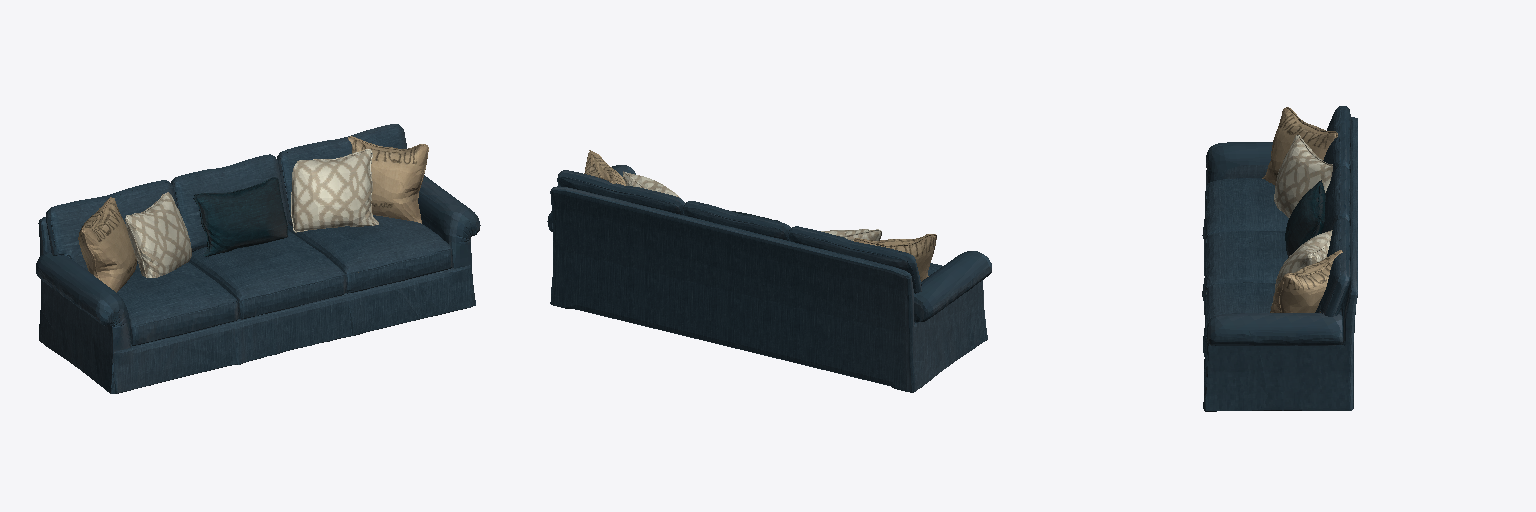
The picture shows the model from 3 angles: view 1: azimuth 30°, elevation 25°; view 2: azimuth 150°, elevation 25°; view 3: azimuth 270°, elevation 25°; orthographic projection.
Parts seen in each view (by area): view 1: solid_002, solid_001, solid_004, solid_003; view 2: solid_002, solid_004, solid_001; view 3: solid_002, solid_004, solid_001, solid_003.
Part boxes in pixels (x1,y1,x2,y2): solid_002: (36,124,480,393); solid_001: (125,149,378,277); solid_004: (78,136,428,292); solid_003: (193,177,287,256); solid_002: (547,165,991,392); solid_004: (584,150,936,281); solid_001: (623,171,881,240); solid_002: (1202,106,1357,411); solid_004: (1262,107,1342,312); solid_001: (1272,135,1332,303); solid_003: (1285,180,1325,257).
Bounding box in the file's own units: 2 × 0.6697 × 0.708.
Materials: 1 (1 with a texture image).